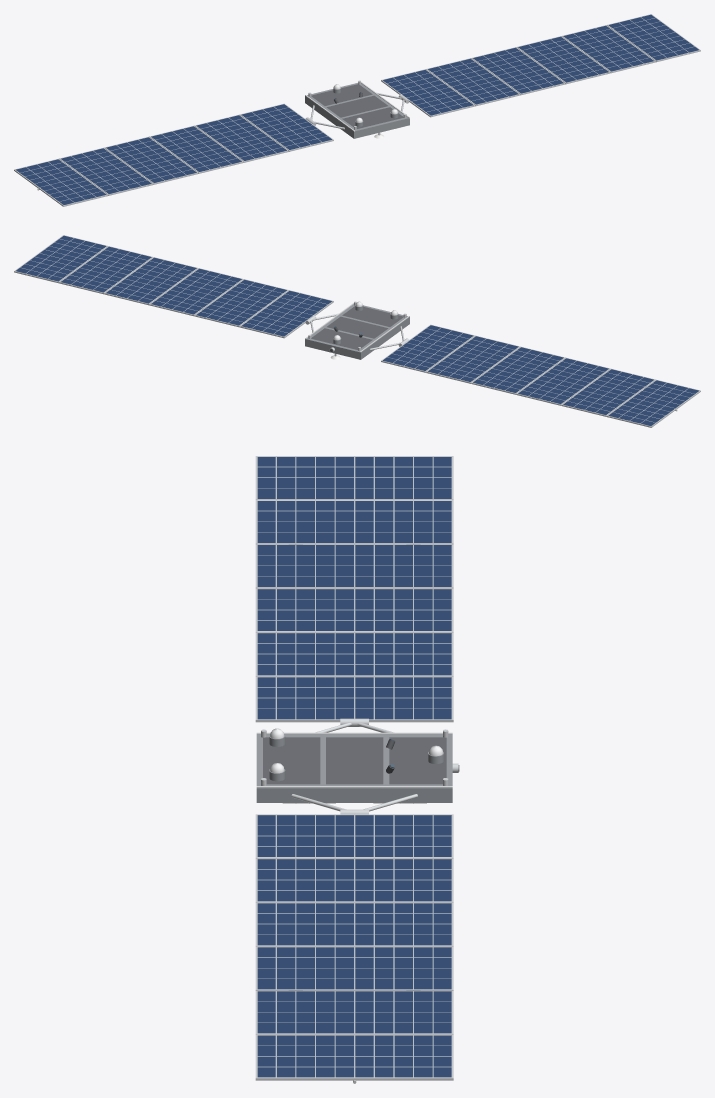
File: satellite-starlink.glb
3 renders of one model, top to bottom at view 1: azimuth 30°, elevation 25°; view 2: azimuth 150°, elevation 25°; view 3: azimuth 270°, elevation 25°, orthographic. The views are drawn at different scales.
Visible parts, largest first — view 1: satellite-starlink; view 2: satellite-starlink; view 3: satellite-starlink.
Boxes of the visible parts, left/top/right/bottom form: satellite-starlink: left=14, top=14, right=700, bottom=206; satellite-starlink: left=14, top=235, right=700, bottom=427; satellite-starlink: left=255, top=456, right=459, bottom=1083.
Size of the model in its own units: 30.86 by 0.98 by 4.25.
